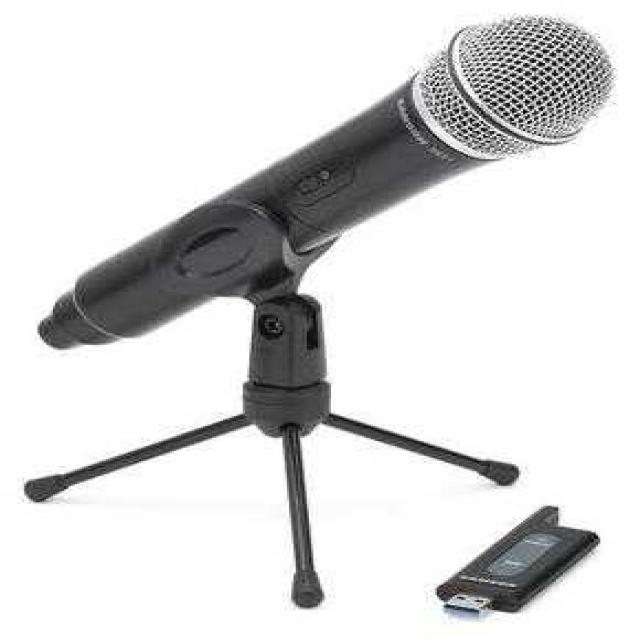microphone: (91, 5, 630, 312)
